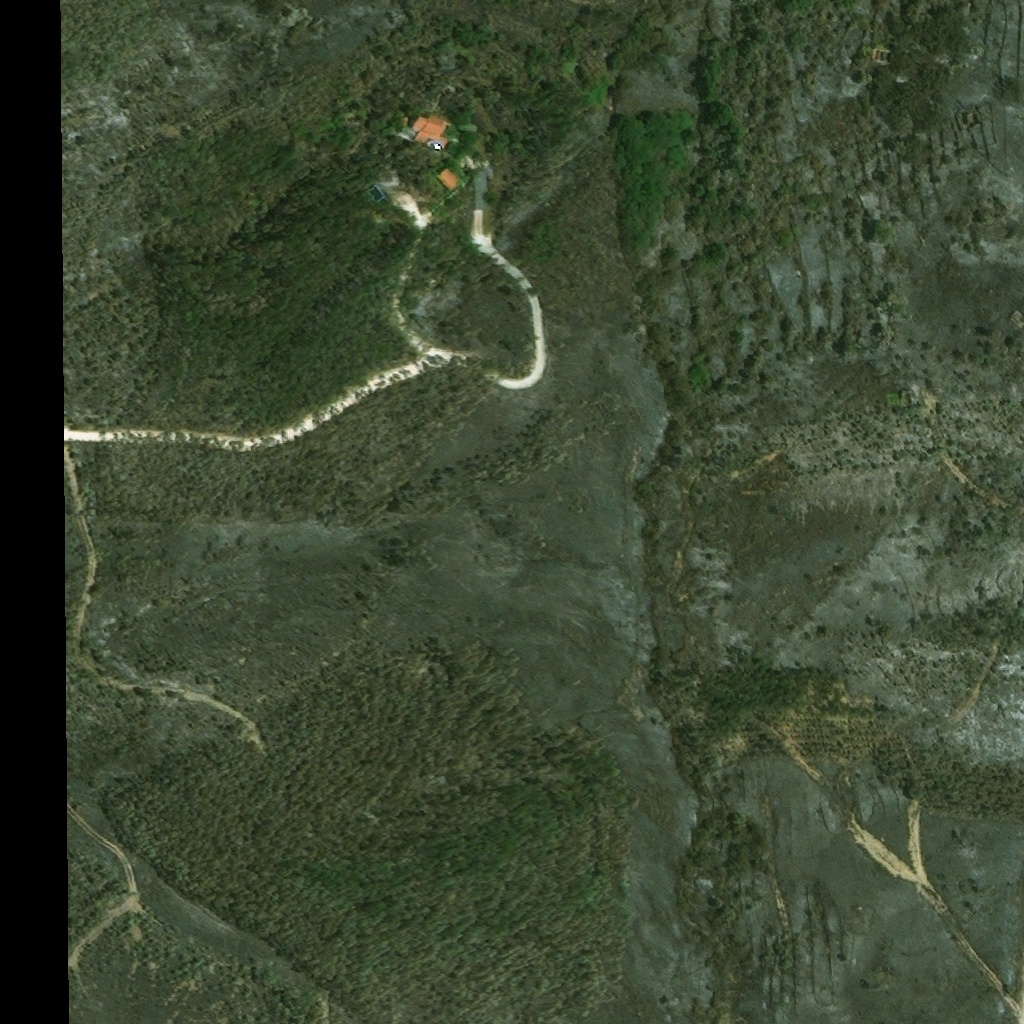0 no-damage: (404, 115, 446, 151), (430, 165, 458, 191)
